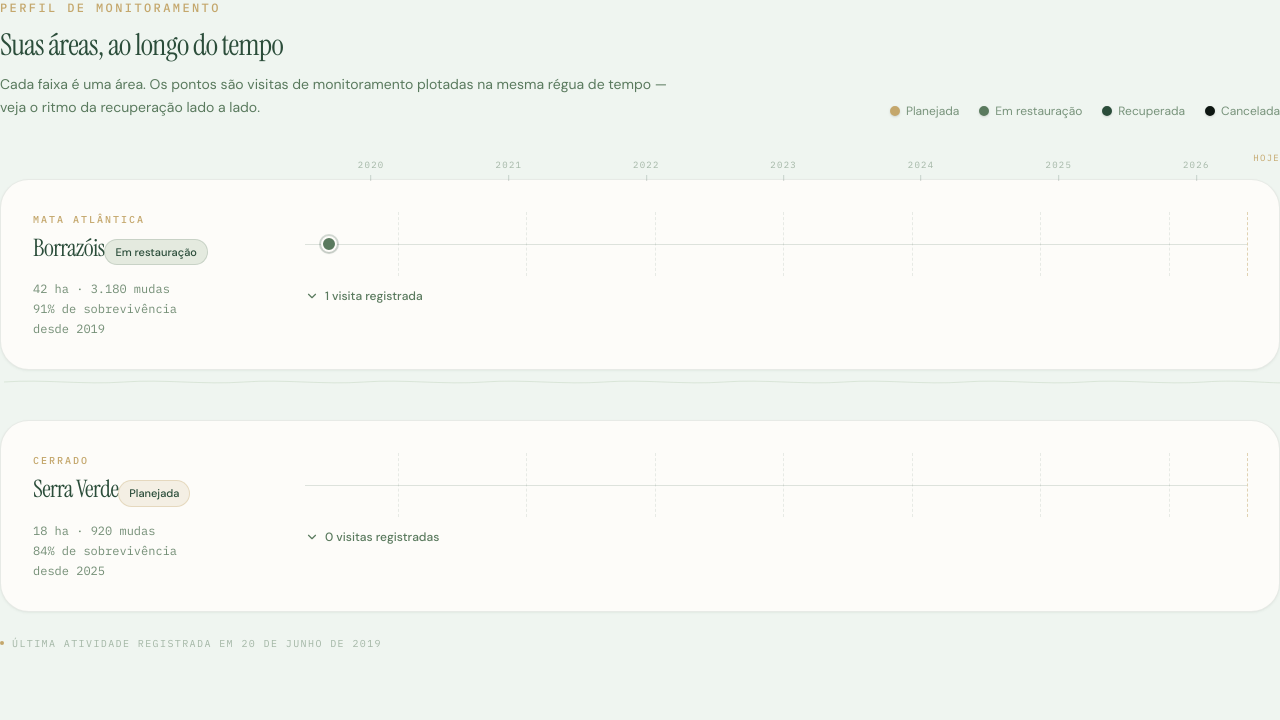
AreaTimeline › expande a lista de visitas da área
The image size is (1280, 720).
Click the button "1 visita registrada" at point(364, 296), box [305,288,423,304]
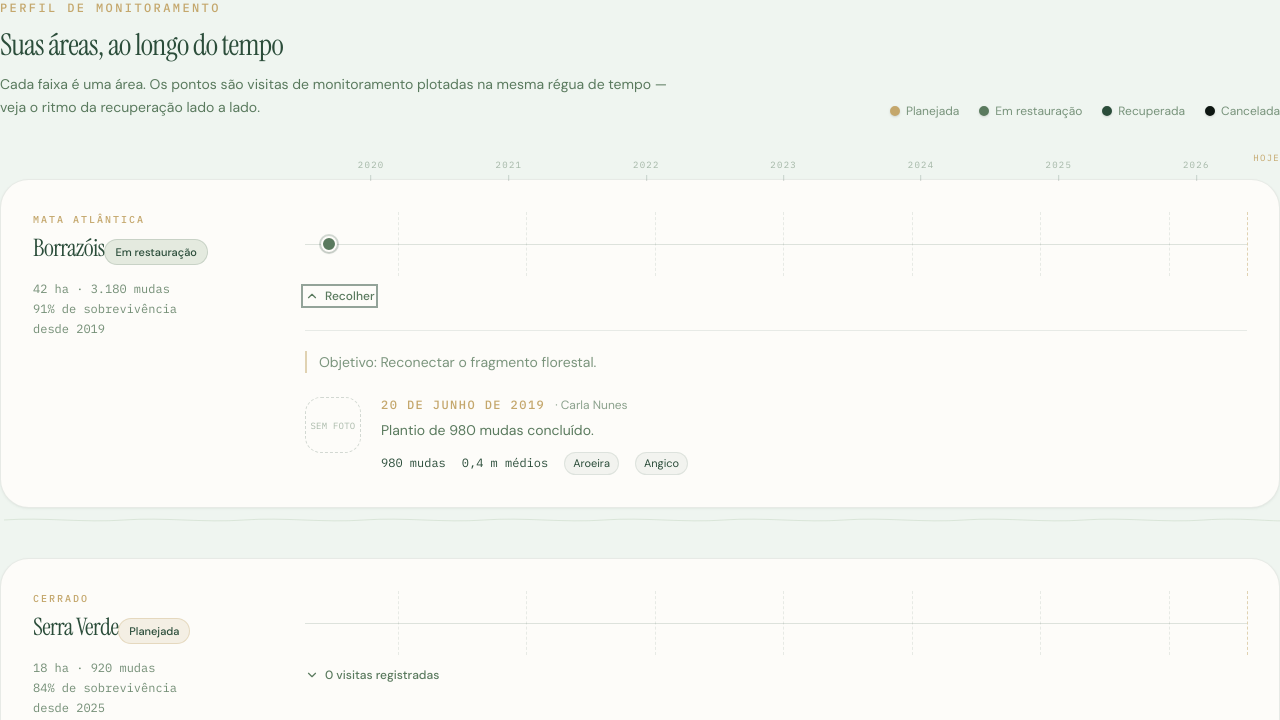
Check: the text "Plantio de 980 mudas concluído." is shown, box [381,421,594,439]
